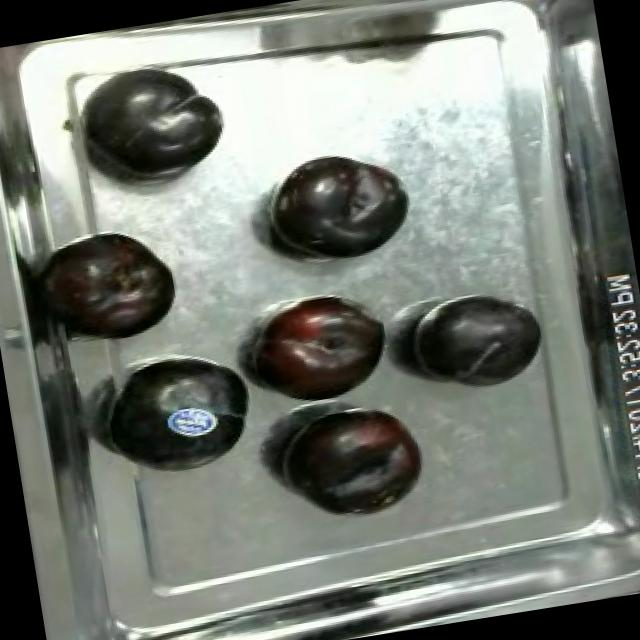Fruit: (100, 337, 270, 485), (70, 52, 236, 192), (255, 137, 420, 275), (273, 394, 437, 524), (238, 284, 399, 415), (36, 218, 188, 350), (403, 284, 553, 402)
